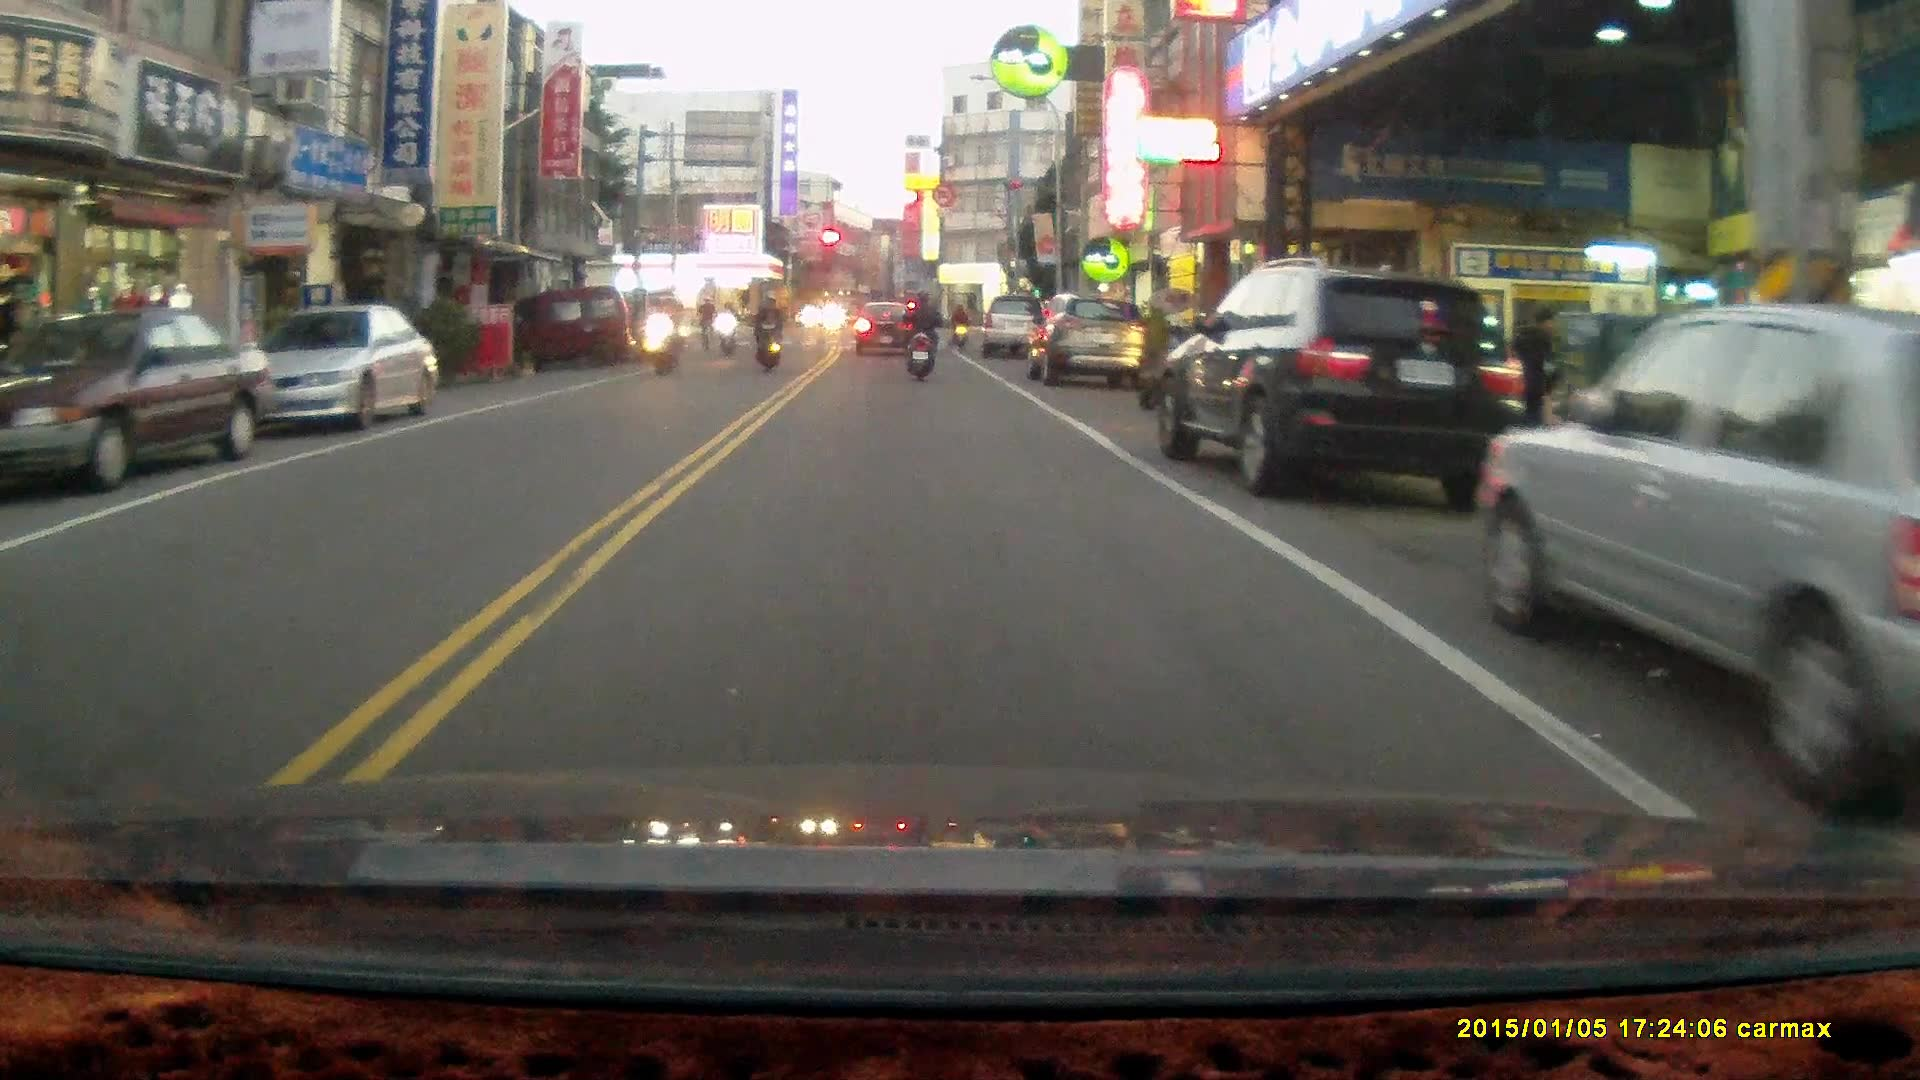pedestrian: (1514, 308, 1559, 466)
rider: (899, 289, 940, 381), (646, 292, 679, 377), (751, 291, 783, 372), (713, 295, 737, 353), (695, 291, 717, 352), (946, 297, 968, 343)
vehicle: (1474, 302, 1920, 818), (1160, 256, 1524, 502), (7, 303, 281, 499), (232, 303, 442, 433), (1024, 293, 1147, 382), (537, 284, 645, 360), (976, 290, 1060, 360)
